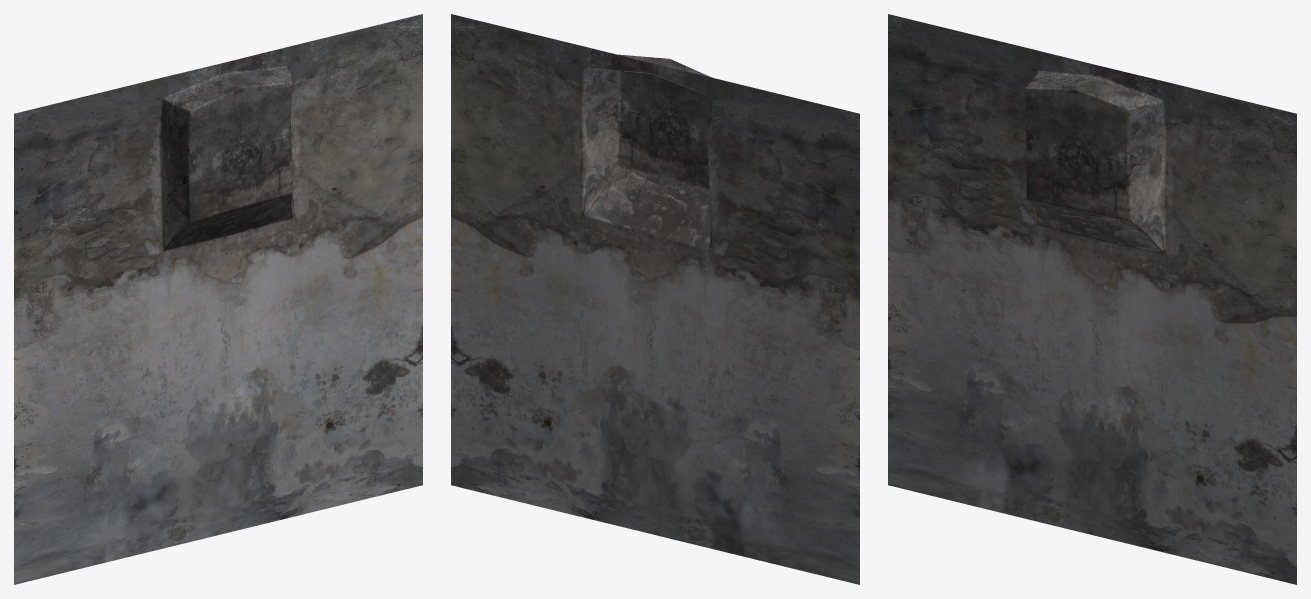
File: SM_CryptWall_01_06.fbx
3 renders of one model, left to right at view 1: azimuth 30°, elevation 25°; view 2: azimuth 150°, elevation 25°; view 3: azimuth 330°, elevation 25°, orthographic.
Parts seen in each view (by area): view 1: sm_CryptWall_01_06_LOD0; view 2: sm_CryptWall_01_06_LOD0; view 3: sm_CryptWall_01_06_LOD0.
Boxes of the visible parts, bbox=[...] form: sm_CryptWall_01_06_LOD0: bbox=[14, 14, 422, 584]; sm_CryptWall_01_06_LOD0: bbox=[451, 14, 859, 584]; sm_CryptWall_01_06_LOD0: bbox=[888, 14, 1296, 584].
Size of the model in its own units: 26.02 by 250 by 275.
